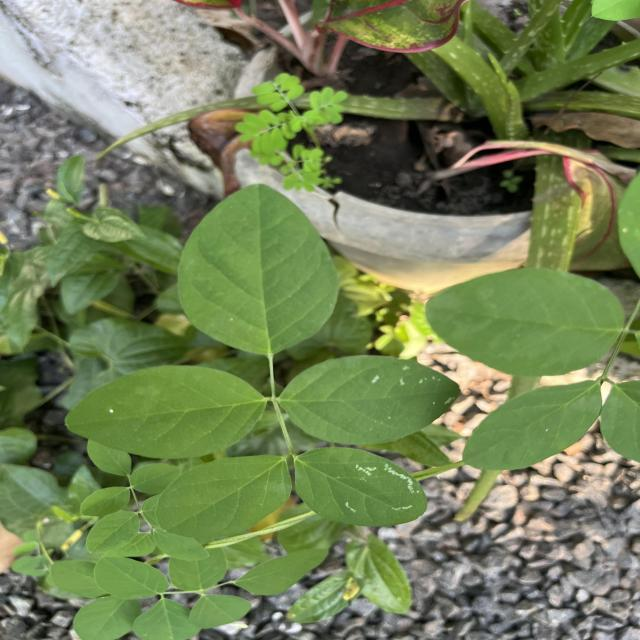Clitoria ternatea: (176, 182, 342, 356), (64, 364, 268, 460), (278, 354, 462, 447), (154, 453, 293, 539), (294, 446, 428, 528)
